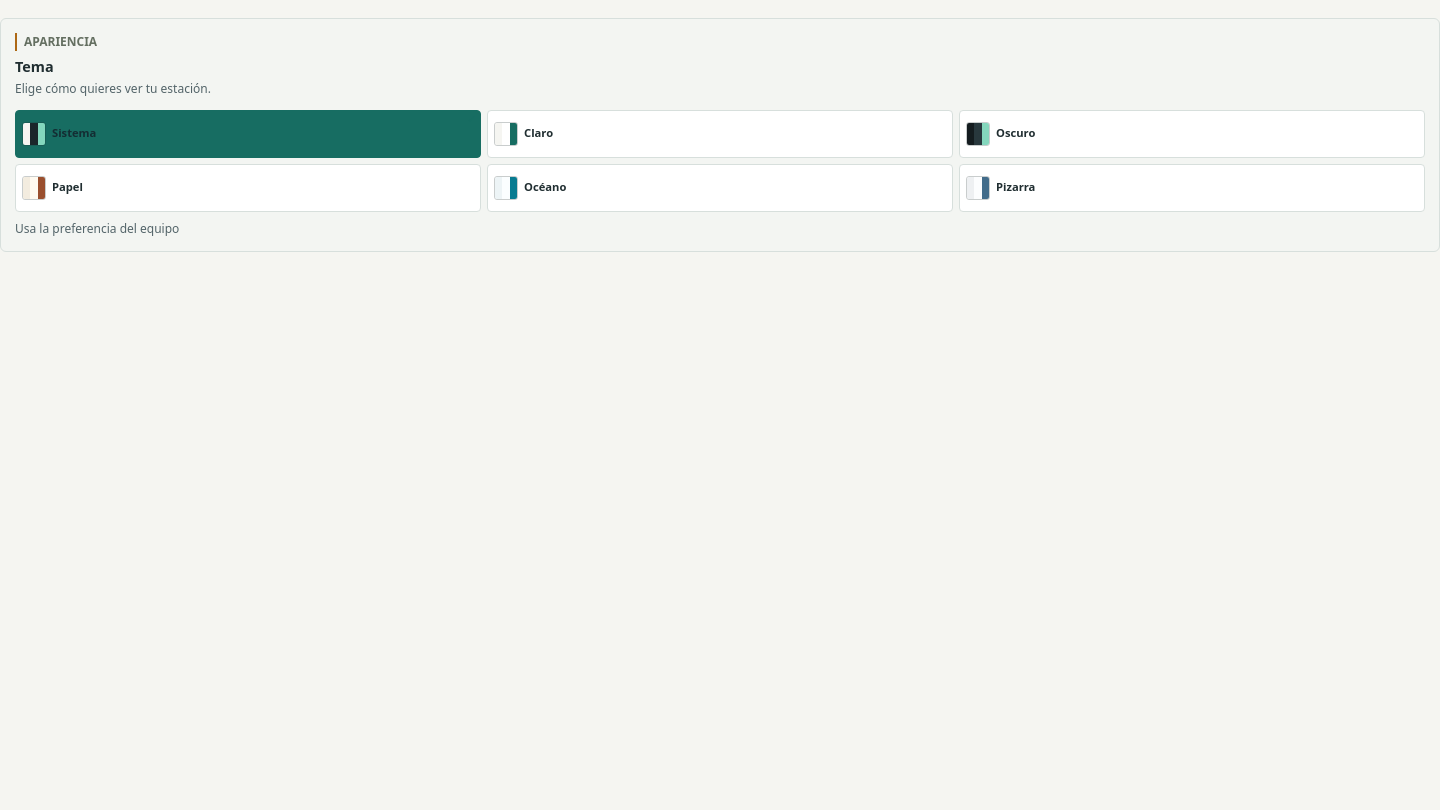
paletas adicionales del selector de tema › aplica y conserva la paleta Océano
Click the button "Océano". click: (545, 187)
box: x1=487 y1=164 x2=953 y2=212
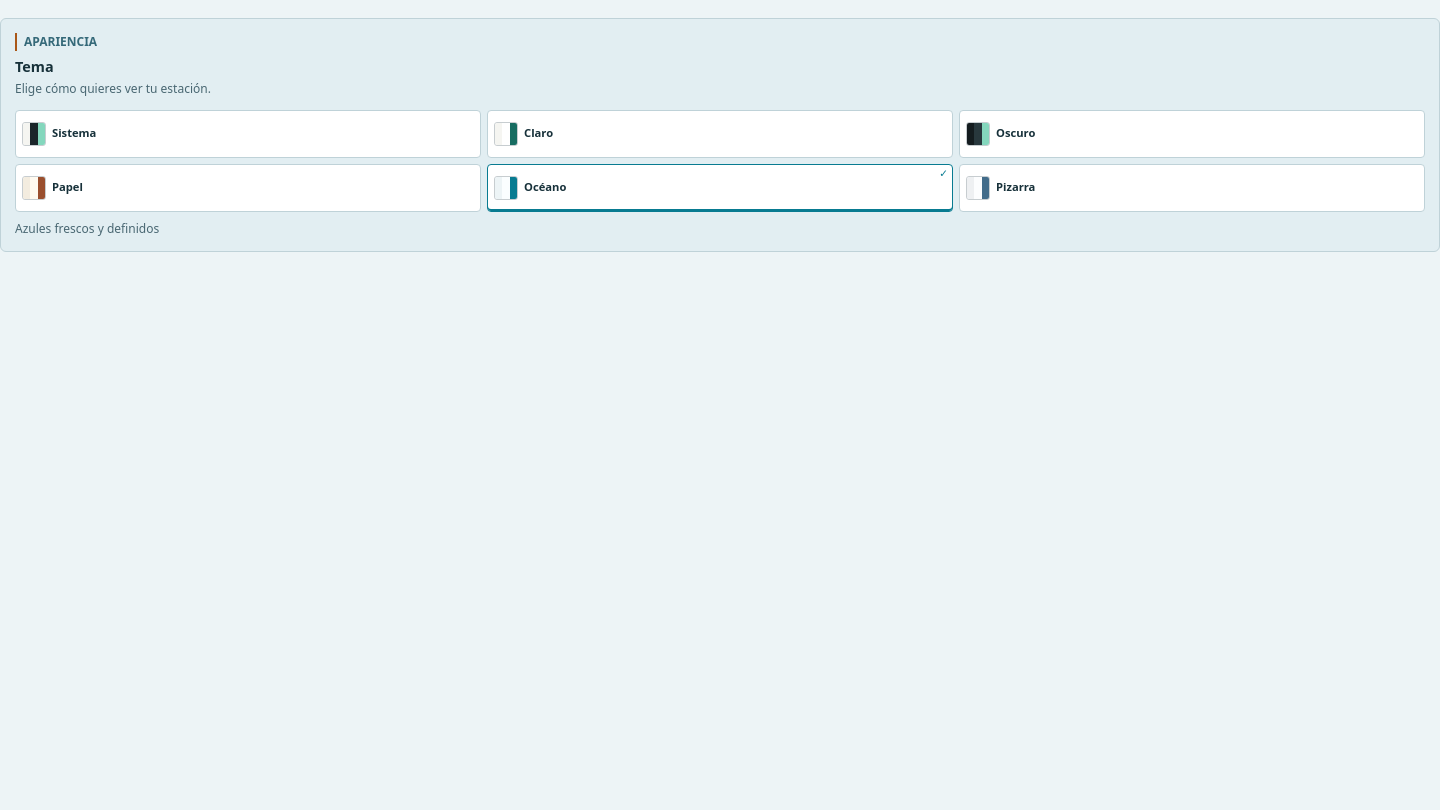
Expected: the text "Azules frescos y definidos" is shown, x1=15 y1=220 x2=159 y2=237
